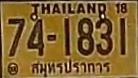1: (119, 17, 125, 54), (64, 18, 69, 55)
3: (95, 17, 112, 54)
4: (27, 18, 44, 55)
7: (8, 18, 24, 56)
8: (77, 17, 93, 55)
SPK: (30, 58, 112, 77)
